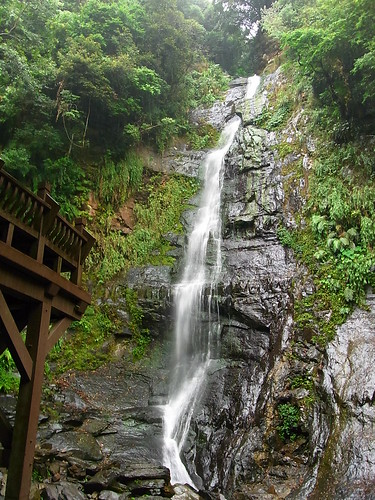wufengciWaterfall: (119, 67, 278, 489)
